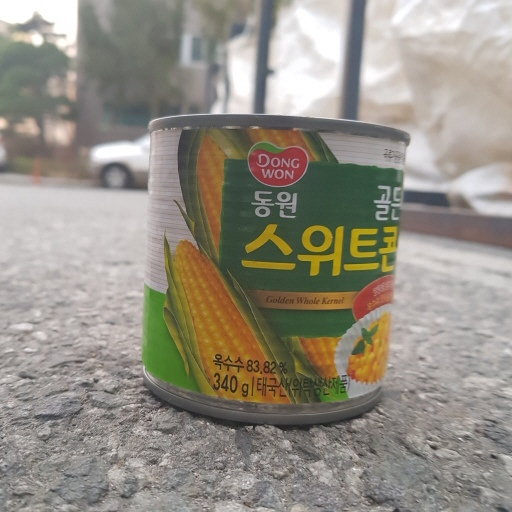Metal_1: (141, 108, 412, 423)
